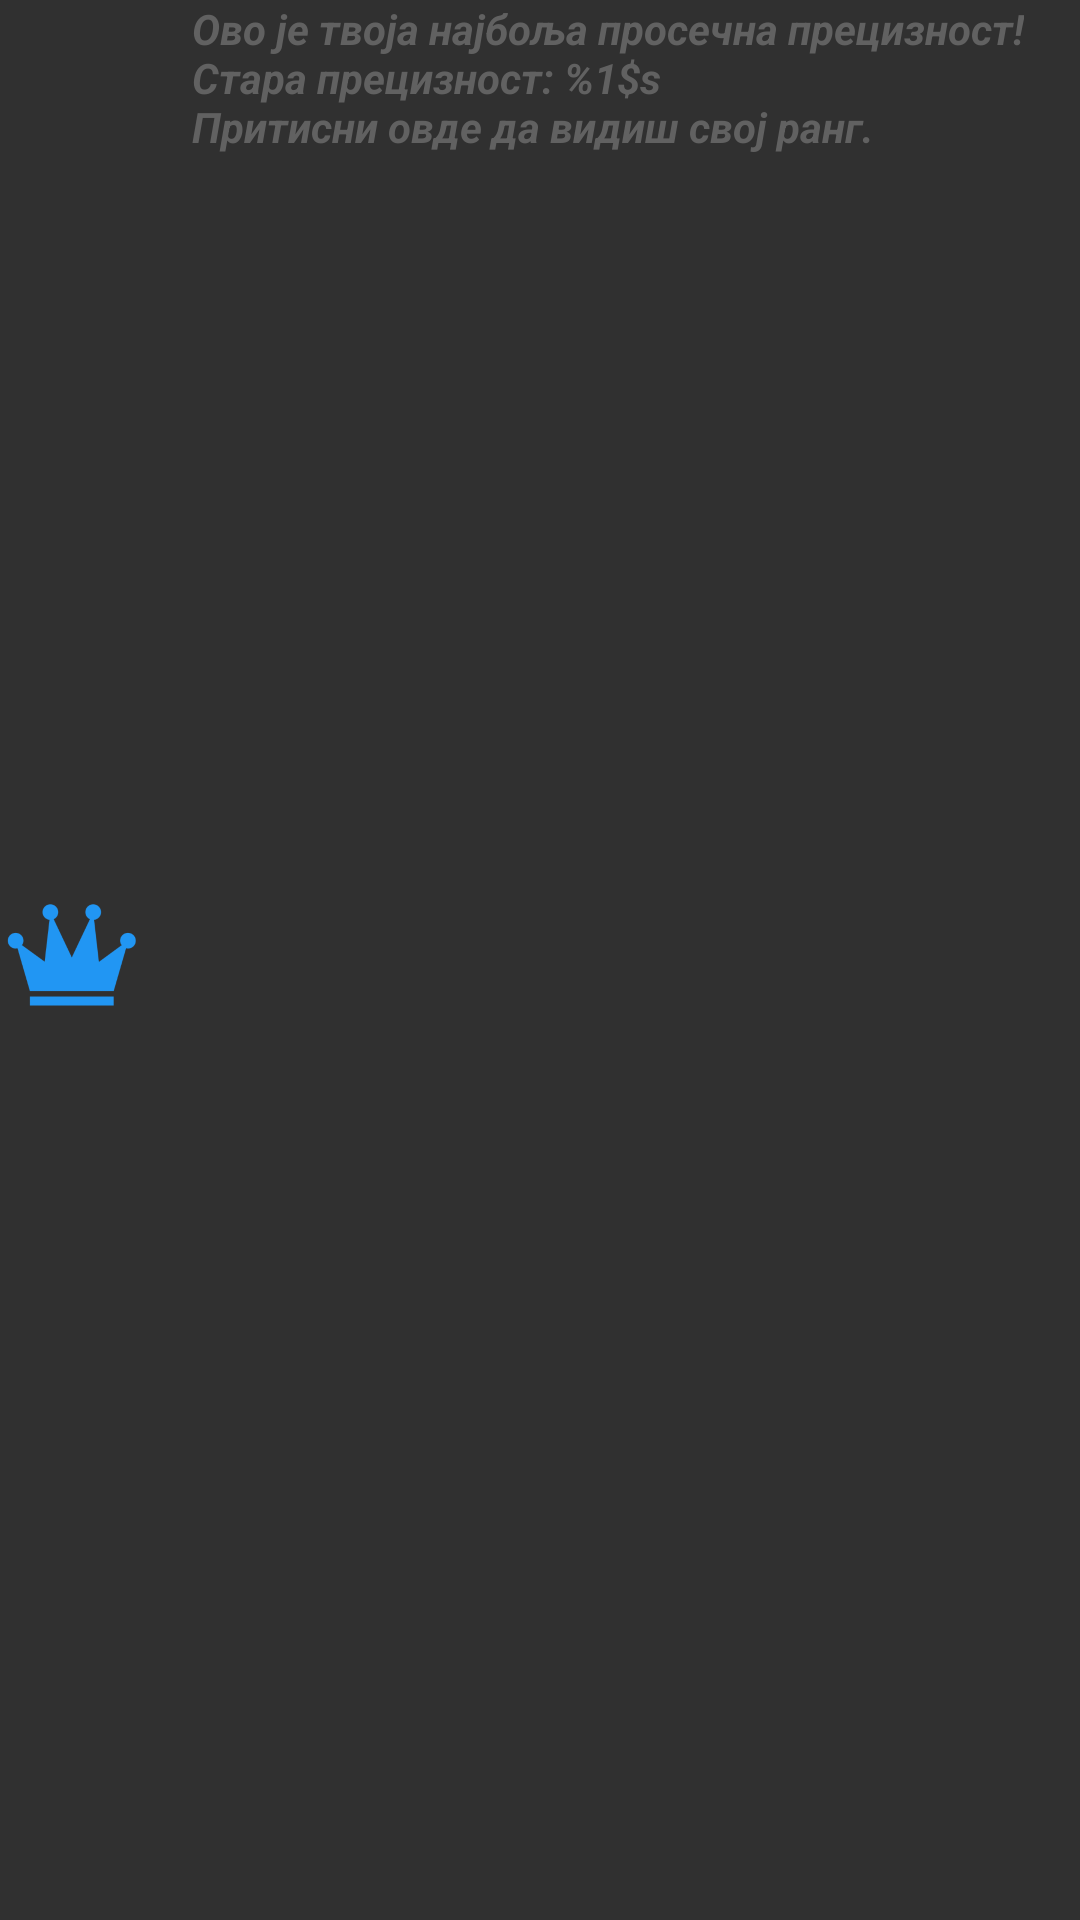

Named icons in this screenshot (1080px×1920px) and their bounding boxes, (x1, y1, x2, y2):
games leaderboards: (8, 904, 136, 1006)
